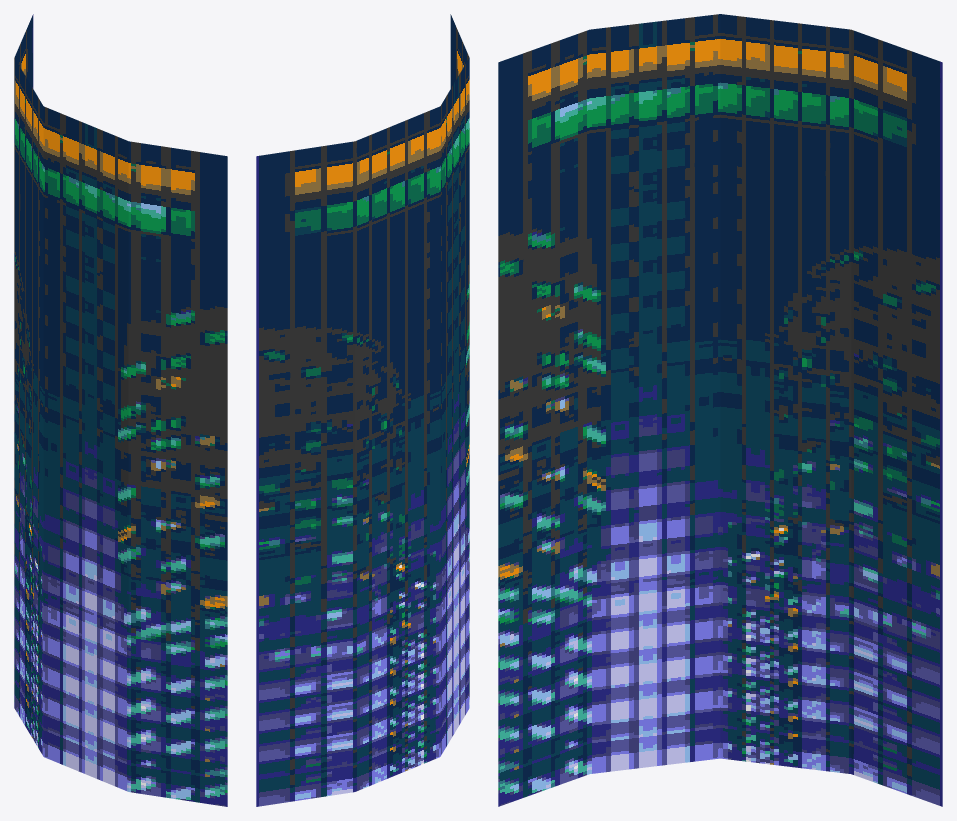
3 views of the same model, side by side, from view 1: azimuth 30°, elevation 25°; view 2: azimuth 150°, elevation 25°; view 3: azimuth 270°, elevation 25° (orthographic). The views are drawn at different scales.
Parts seen in each view (by area): view 1: obj-65; view 2: obj-65; view 3: obj-65.
Boxes of the visible parts, x1,y1,x2,y2 form: obj-65: (14, 14, 227, 806); obj-65: (256, 14, 469, 806); obj-65: (498, 14, 942, 806).
Bounding box in the file's own units: 0.6836 × 4.9 × 2.65.
1 material, 1 textured.
